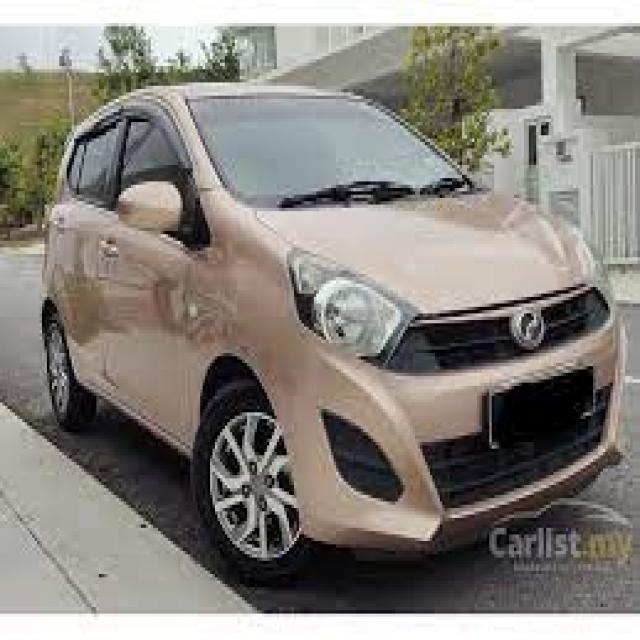PeroduaAxia: (37, 76, 630, 580)
